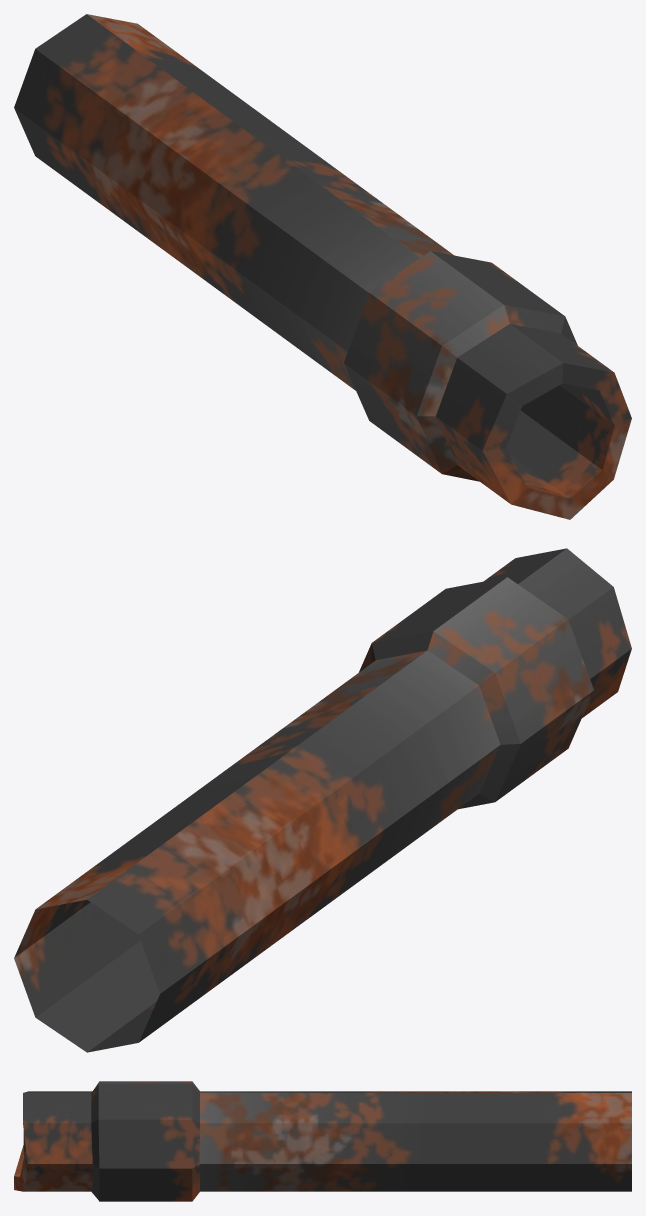
File: broken_Pipe.fbx
3 views of the same model, one above another, from view 1: azimuth 30°, elevation 25°; view 2: azimuth 150°, elevation 25°; view 3: azimuth 270°, elevation 25° (orthographic). The views are drawn at different scales.
Visible parts, largest first — view 1: Cylinder; view 2: Cylinder; view 3: Cylinder.
Boxes of the visible parts, bbox=[...] form: Cylinder: bbox=[14, 14, 631, 519]; Cylinder: bbox=[14, 548, 631, 1052]; Cylinder: bbox=[14, 1081, 631, 1201].
Bounding box in the file's own units: 13.68 × 13.68 × 66.1.
